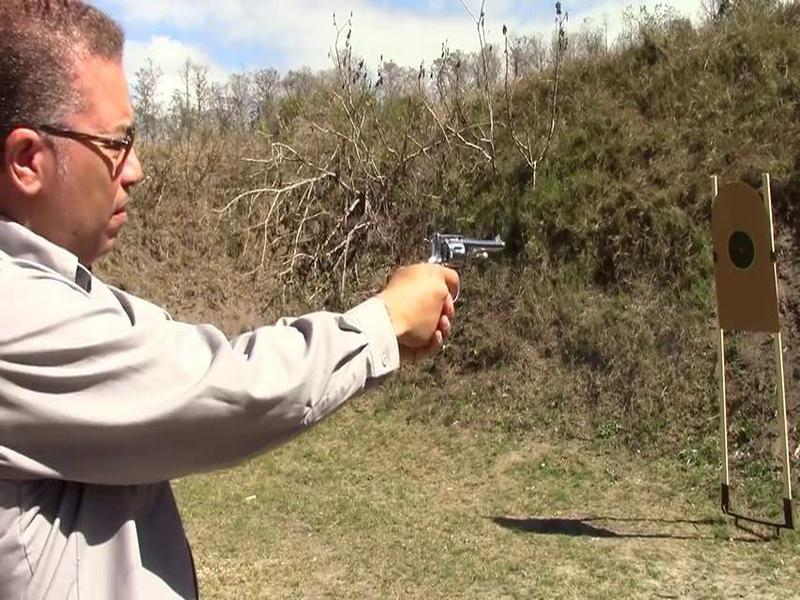Revolver: (413, 224, 518, 304)
